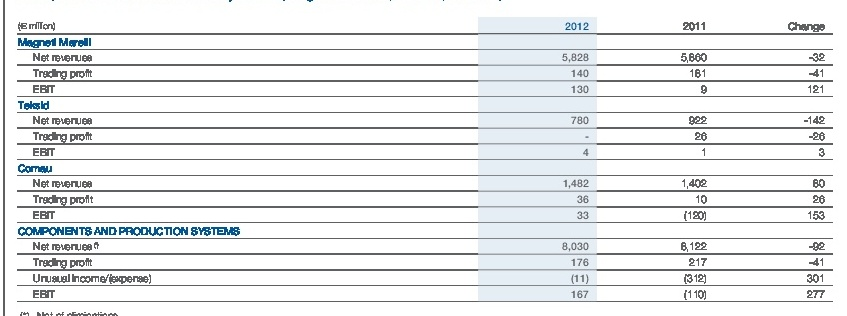table: (0, 0, 847, 316)
